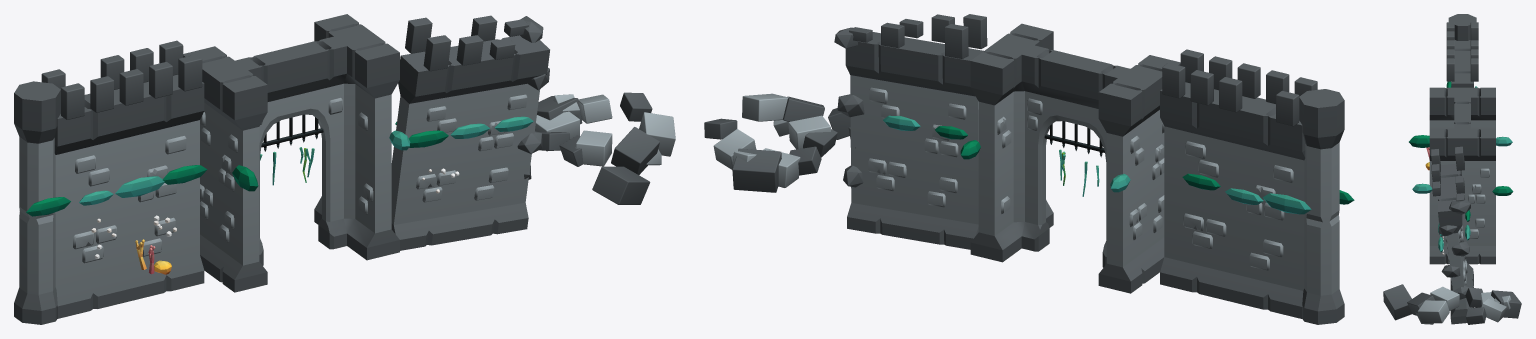
Rendered from citadel_wall_ruin.glb.
3 views of the same model, side by side, from view 1: azimuth 30°, elevation 25°; view 2: azimuth 150°, elevation 25°; view 3: azimuth 270°, elevation 25° (orthographic). The views are drawn at different scales.
Visible parts, largest first — view 1: citadel_wall_ruin; view 2: citadel_wall_ruin; view 3: citadel_wall_ruin.
Part boxes in pixels (x1,y1,x2,y2): citadel_wall_ruin: (14,14,675,324); citadel_wall_ruin: (704,14,1354,324); citadel_wall_ruin: (1383,14,1521,324).
Bounding box in the file's own units: 17.55 × 6.59 × 5.18.
Materials: 2 (2 with a texture image).
